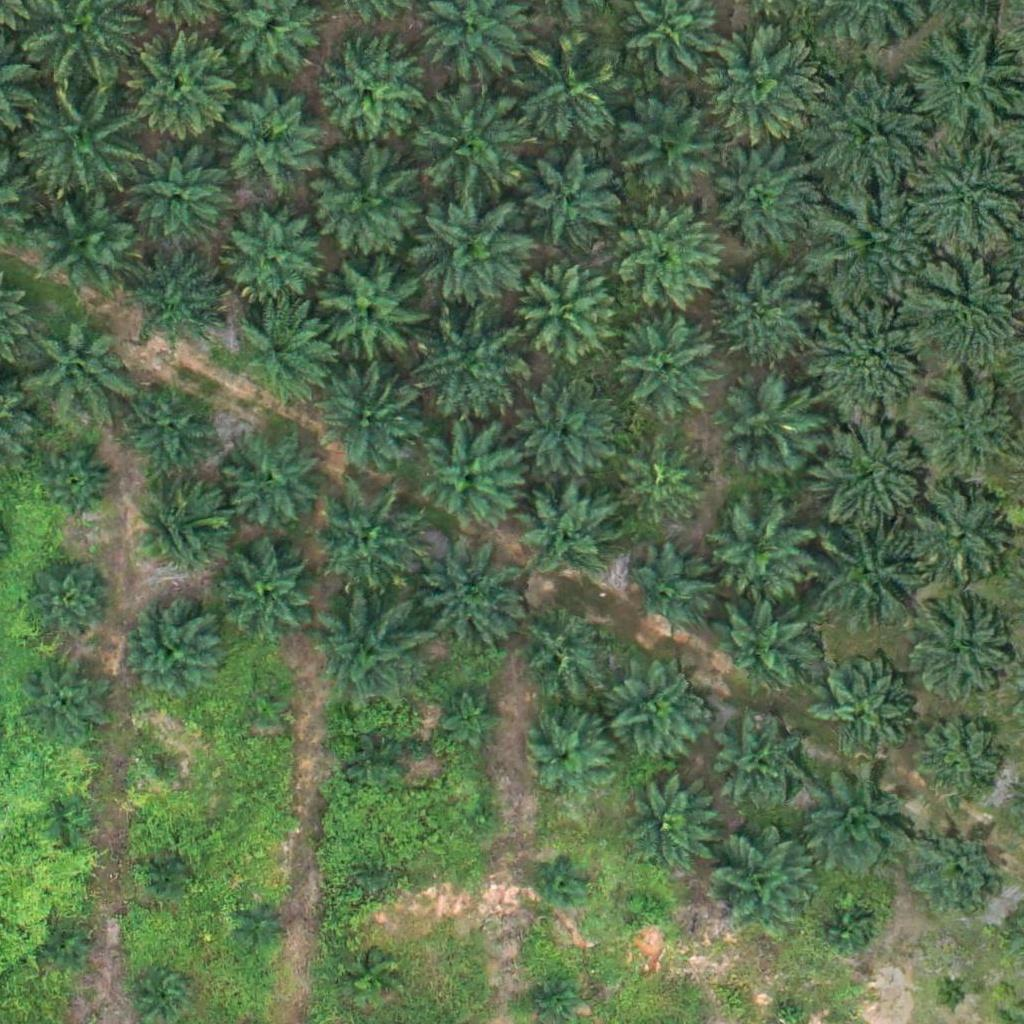Kelapa_Sawit: (411, 191, 536, 317), (700, 15, 825, 141), (696, 132, 821, 258), (813, 73, 938, 199), (813, 184, 938, 310), (810, 293, 935, 419), (18, 68, 143, 193), (805, 410, 930, 535), (22, 179, 135, 292), (309, 33, 422, 146), (312, 146, 425, 259), (414, 542, 527, 655), (412, 312, 525, 425), (905, 33, 1018, 146), (814, 521, 927, 634), (805, 770, 918, 883), (414, 88, 526, 202), (511, 39, 623, 153), (611, 206, 723, 320), (126, 22, 238, 135), (313, 486, 425, 599), (309, 594, 421, 707), (132, 147, 232, 248), (222, 96, 322, 197), (712, 594, 812, 695), (607, 663, 707, 764), (518, 387, 618, 488), (518, 481, 618, 582), (511, 600, 611, 701), (419, 427, 519, 528), (323, 263, 423, 364), (316, 360, 416, 461), (217, 543, 317, 644), (224, 431, 324, 532), (233, 296, 333, 397), (220, 208, 320, 309), (124, 249, 224, 350), (124, 381, 224, 482), (128, 477, 228, 578), (26, 306, 126, 407), (813, 661, 913, 762), (910, 609, 1010, 710), (908, 488, 1008, 589), (913, 376, 1013, 477), (712, 835, 812, 936), (525, 144, 625, 244), (615, 98, 715, 198), (712, 270, 812, 370), (720, 378, 820, 478), (708, 504, 808, 604), (619, 320, 719, 420), (516, 265, 616, 365), (120, 597, 220, 697), (615, 775, 715, 875), (627, 548, 715, 636), (620, 440, 708, 528), (714, 718, 802, 806), (525, 715, 612, 804), (914, 826, 1001, 915), (18, 654, 105, 742), (24, 553, 111, 641), (913, 719, 1000, 807), (39, 448, 114, 524), (441, 683, 503, 746), (345, 952, 395, 1003), (820, 903, 870, 954), (138, 854, 188, 905), (238, 898, 288, 949), (241, 682, 291, 732), (137, 747, 187, 797), (352, 741, 402, 791), (39, 921, 89, 971), (539, 854, 589, 904), (629, 889, 667, 927), (934, 977, 972, 1015), (358, 856, 395, 894), (463, 801, 500, 839), (45, 807, 82, 844)
